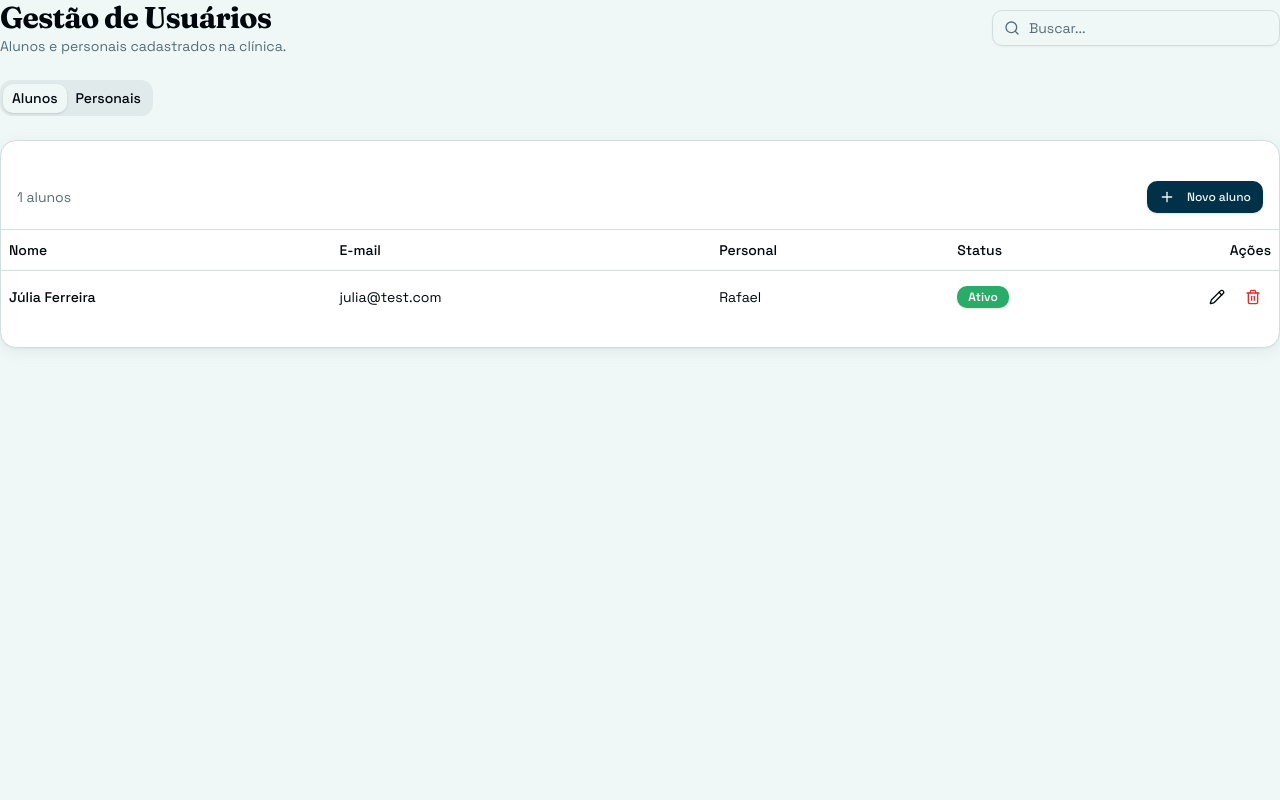
Test case: UsuariosPage — AlunosTab › Editar aluno — cartão de parceiros › shows the partner card toggle for an admin
Expected: the text "Júlia Ferreira" is shown, [9,288,96,306]
What coordinates should you click on to do the following:
click the 2nd button
I would click on:
 (1217, 296)
Its box is [1199,278,1235,314].
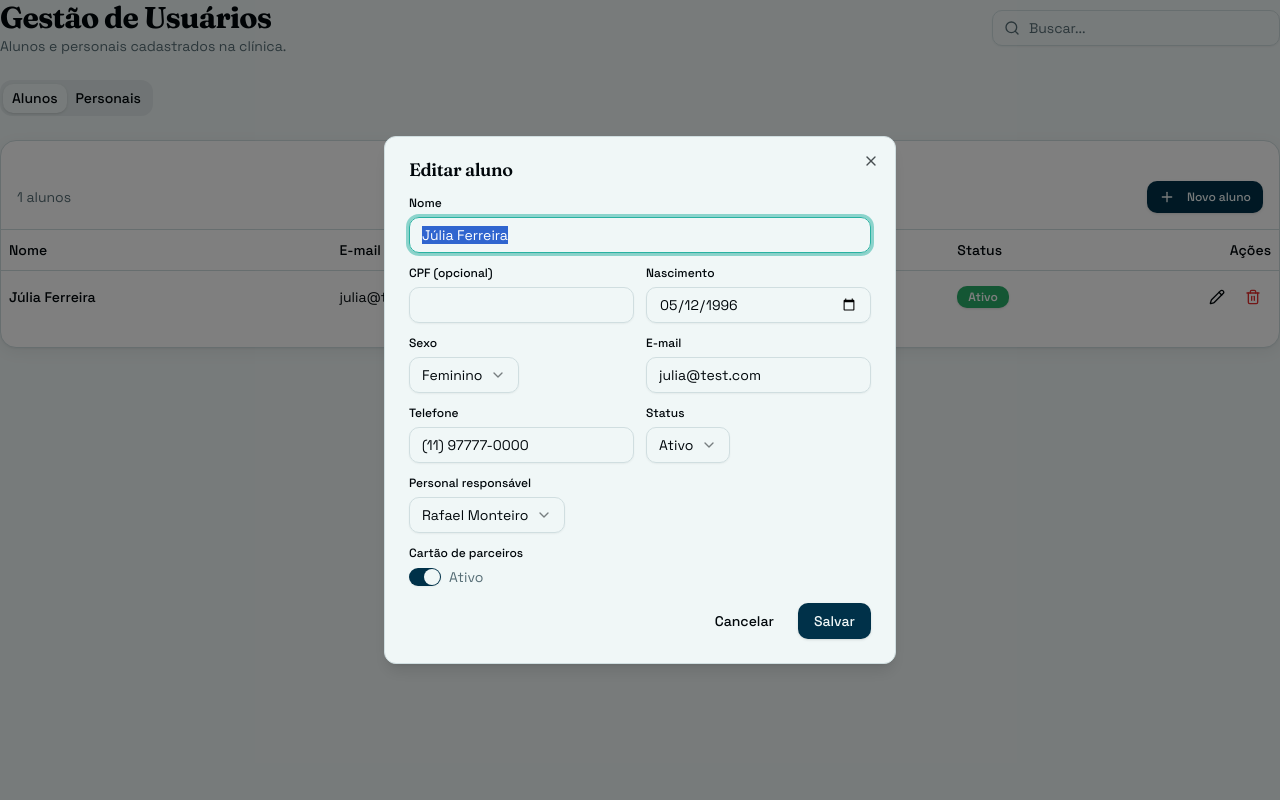
Expected: the switch named "Cartão de parceiros" is shown, [409,568,441,586]
